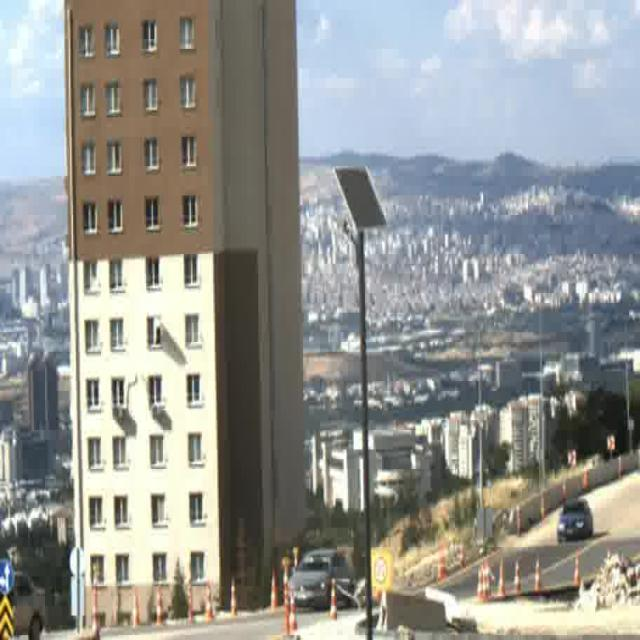Car: (289, 551, 355, 607), (12, 571, 45, 638), (557, 502, 593, 543)
